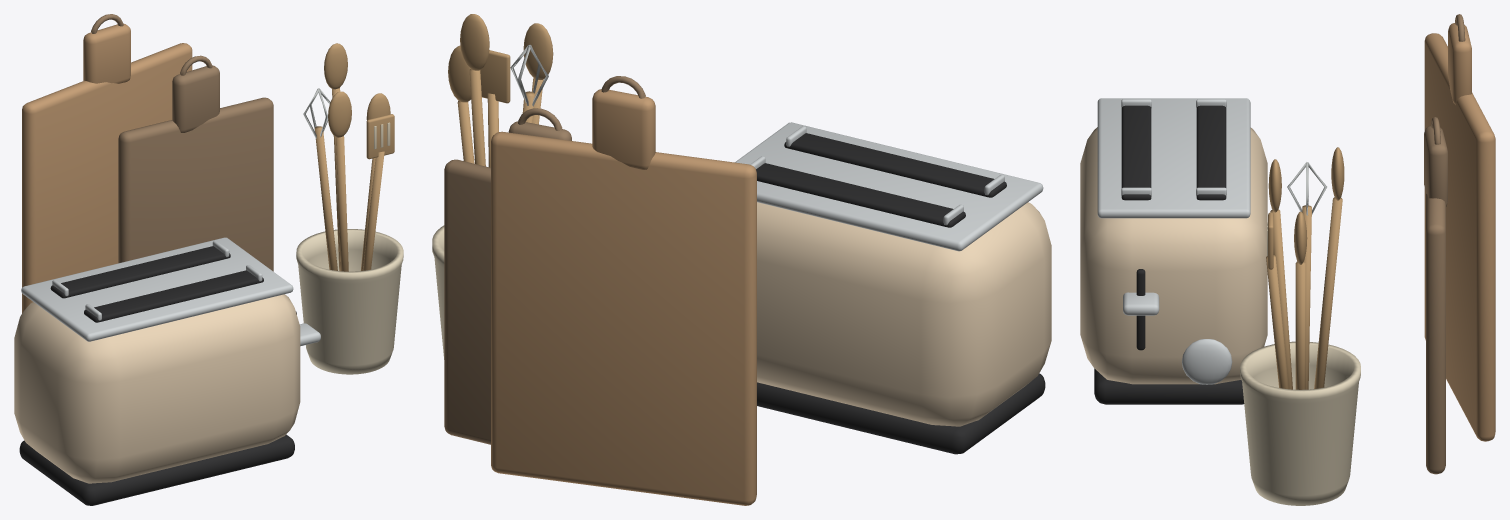
Rendered from arr_counter.glb.
3 renders of one model, left to right at view 1: azimuth 30°, elevation 25°; view 2: azimuth 150°, elevation 25°; view 3: azimuth 270°, elevation 25°, orthographic. The views are drawn at different scales.
Parts seen in each view (by area): view 1: arr_counter__toaster_body, arr_counter__cutting_boards_body, arr_counter__cutting_boards_accent, arr_counter__utensil_crock_body, arr_counter__toaster_technical, arr_counter__toaster_accent, arr_counter__utensil_crock_accent; view 2: arr_counter__cutting_boards_body, arr_counter__toaster_body, arr_counter__toaster_technical, arr_counter__cutting_boards_accent, arr_counter__toaster_accent, arr_counter__utensil_crock_accent, arr_counter__utensil_crock_body, arr_counter__utensil_crock_metal; view 3: arr_counter__toaster_body, arr_counter__cutting_boards_body, arr_counter__toaster_accent, arr_counter__utensil_crock_body, arr_counter__toaster_technical, arr_counter__utensil_crock_accent, arr_counter__cutting_boards_accent, arr_counter__utensil_crock_metal.
Part boxes in pixels (left/top/right/bottom): arr_counter__toaster_body: left=14, top=294, right=300, bottom=483; arr_counter__cutting_boards_body: left=22, top=24, right=192, bottom=313; arr_counter__cutting_boards_accent: left=91, top=14, right=273, bottom=271; arr_counter__utensil_crock_body: left=296, top=122, right=403, bottom=374; arr_counter__toaster_technical: left=19, top=246, right=296, bottom=505; arr_counter__toaster_accent: left=21, top=237, right=320, bottom=346; arr_counter__utensil_crock_accent: left=314, top=43, right=394, bottom=271; arr_counter__cutting_boards_body: left=491, top=89, right=756, bottom=505; arr_counter__toaster_body: left=757, top=202, right=1051, bottom=426; arr_counter__toaster_technical: left=756, top=133, right=1045, bottom=454; arr_counter__cutting_boards_accent: left=444, top=76, right=645, bottom=444; arr_counter__toaster_accent: left=735, top=122, right=1043, bottom=251; arr_counter__utensil_crock_accent: left=448, top=14, right=553, bottom=167; arr_counter__utensil_crock_body: left=432, top=225, right=444, bottom=359; arr_counter__utensil_crock_metal: left=510, top=44, right=548, bottom=106; arr_counter__toaster_body: left=1080, top=127, right=1267, bottom=384; arr_counter__cutting_boards_body: left=1424, top=23, right=1495, bottom=441; arr_counter__toaster_accent: left=1097, top=98, right=1250, bottom=384; arr_counter__utensil_crock_body: left=1240, top=222, right=1360, bottom=505; arr_counter__toaster_technical: left=1094, top=105, right=1244, bottom=404; arr_counter__utensil_crock_accent: left=1266, top=147, right=1344, bottom=389; arr_counter__cutting_boards_accent: left=1424, top=14, right=1465, bottom=474; arr_counter__utensil_crock_metal: left=1287, top=162, right=1326, bottom=215.
Bounding box in the file's own units: 0.4895 × 0.377 × 0.3771.
